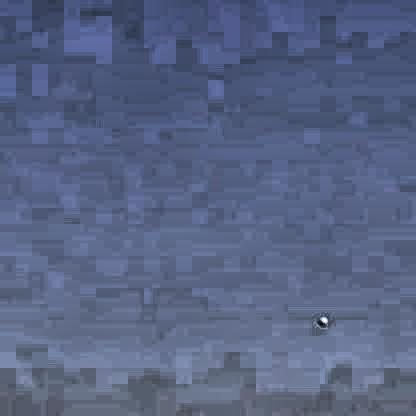golfball: (314, 315, 325, 324)
